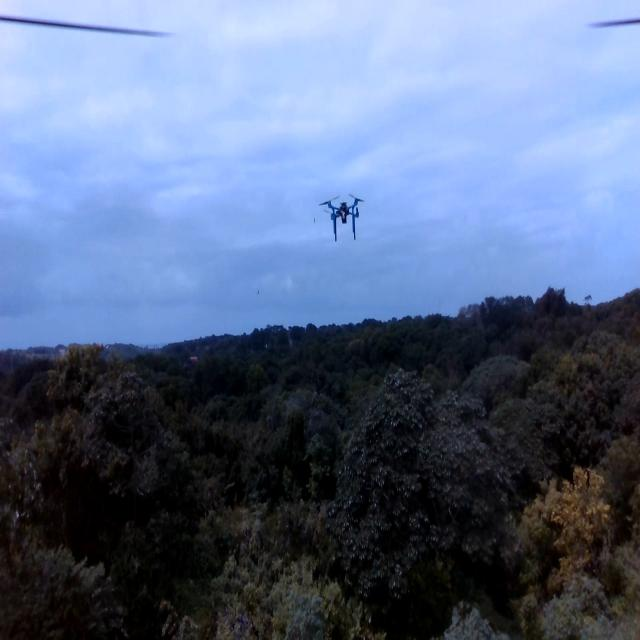-uav-: (310, 184, 377, 265)
